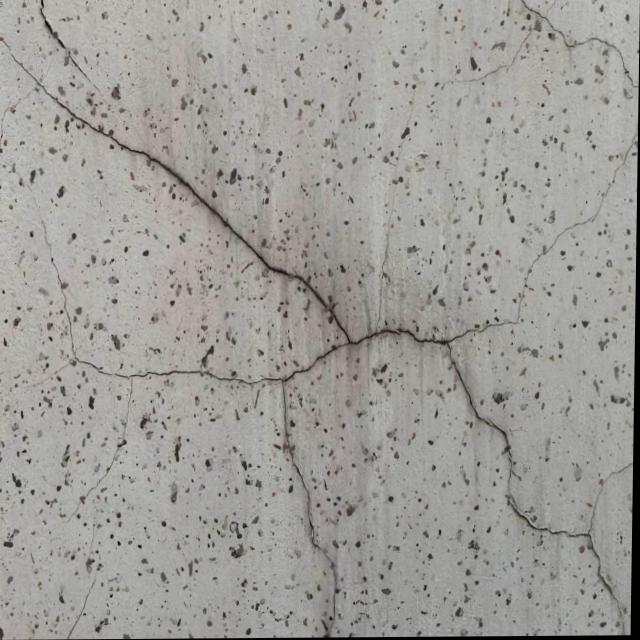crack: (2, 39, 633, 629), (430, 0, 637, 99), (31, 5, 112, 105), (66, 555, 102, 638)
